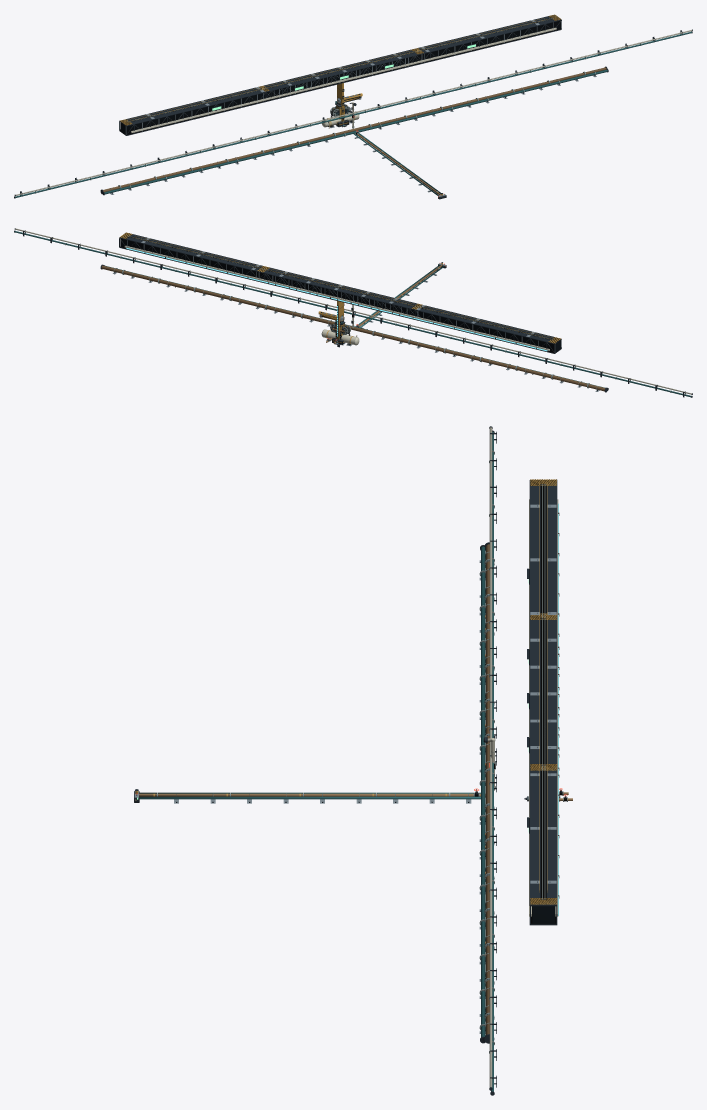
The model's file is k7_hala.glb.
3 views of the same model, one above another, from view 1: azimuth 30°, elevation 25°; view 2: azimuth 150°, elevation 25°; view 3: azimuth 270°, elevation 25° (orthographic). The views are drawn at different scales.
Visible parts, largest first — view 1: gate-lintel-main|fg, fuel-headers|bg, wall-pipes|fg, gate-lintel-side|fg, fuel-rack-W|bg; view 2: gate-lintel-main|fg, wall-pipes|fg, fuel-headers|bg, gate-lintel-side|fg, fuel-rack-W|bg, fuel-tank|bg; view 3: gate-lintel-main|fg, fuel-headers|bg, wall-pipes|fg, gate-lintel-side|fg, fuel-rack-W|bg.
Boxes of the visible parts, <box> form: gate-lintel-main|fg: <box>119,14,561,135</box>; fuel-headers|bg: <box>100,66,608,195</box>; wall-pipes|fg: <box>14,29,692,198</box>; gate-lintel-side|fg: <box>259,48,424,101</box>; fuel-rack-W|bg: <box>354,130,446,199</box>; gate-lintel-main|fg: <box>119,232,561,353</box>; wall-pipes|fg: <box>14,228,692,397</box>; fuel-headers|bg: <box>100,264,608,392</box>; gate-lintel-side|fg: <box>256,266,422,317</box>; fuel-rack-W|bg: <box>355,262,446,328</box>; fuel-tank|bg: <box>321,329,359,346</box>; gate-lintel-main|fg: <box>527,479,559,925</box>; fuel-headers|bg: <box>479,542,494,1043</box>; wall-pipes|fg: <box>489,426,496,1095</box>; gate-lintel-side|fg: <box>527,613,559,779</box>; fuel-rack-W|bg: <box>134,788,485,803</box>.
Bounding box in the file's own units: 9856 × 820 × 2763.
